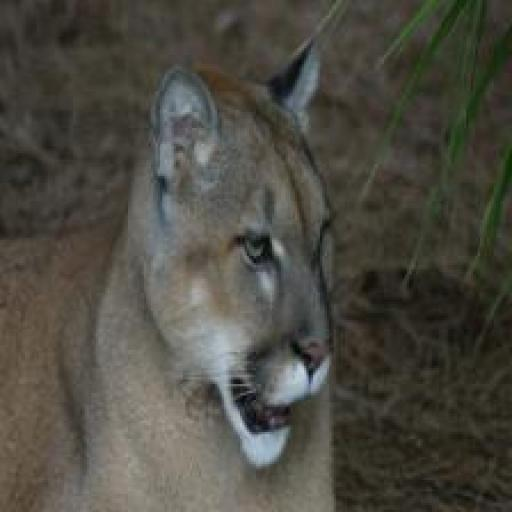lion: (0, 34, 393, 510)
